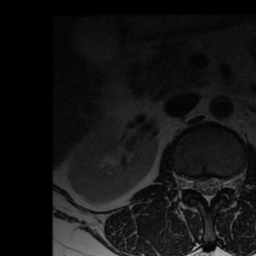CCS_normal: (204, 169, 212, 212)
LFS_normal: (222, 167, 232, 197)
LLS_normal: (212, 167, 222, 202)
RFS_normal: (185, 165, 195, 197)
RLS_normal: (195, 168, 204, 200)
